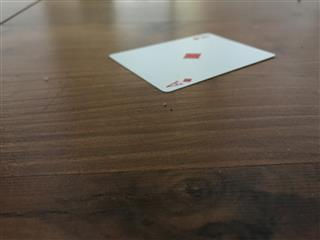AceOfDiamonds: (107, 32, 275, 92)
